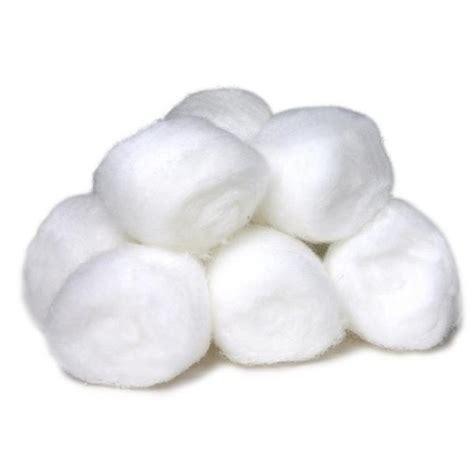cotton: (95, 113, 269, 252), (47, 245, 210, 390), (315, 195, 461, 352), (251, 103, 400, 243), (210, 221, 342, 366), (19, 192, 117, 325), (168, 89, 271, 152)
